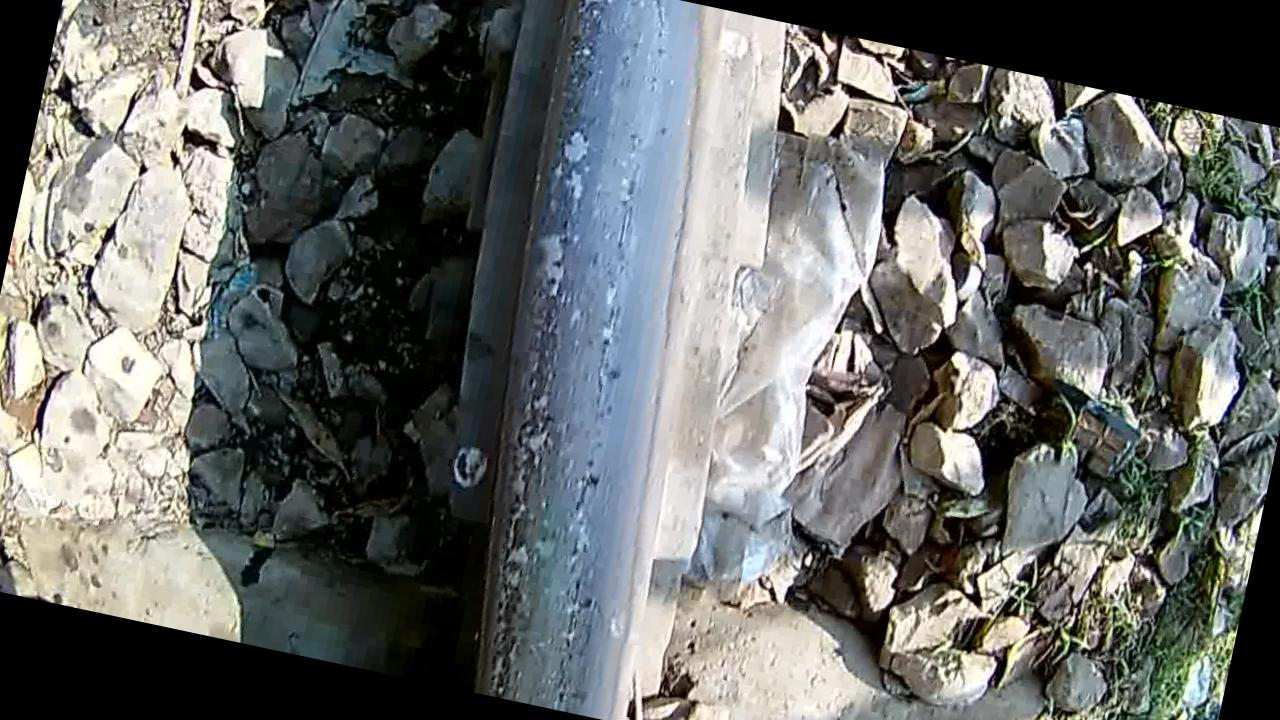clip_missing: (415, 0, 759, 720)
